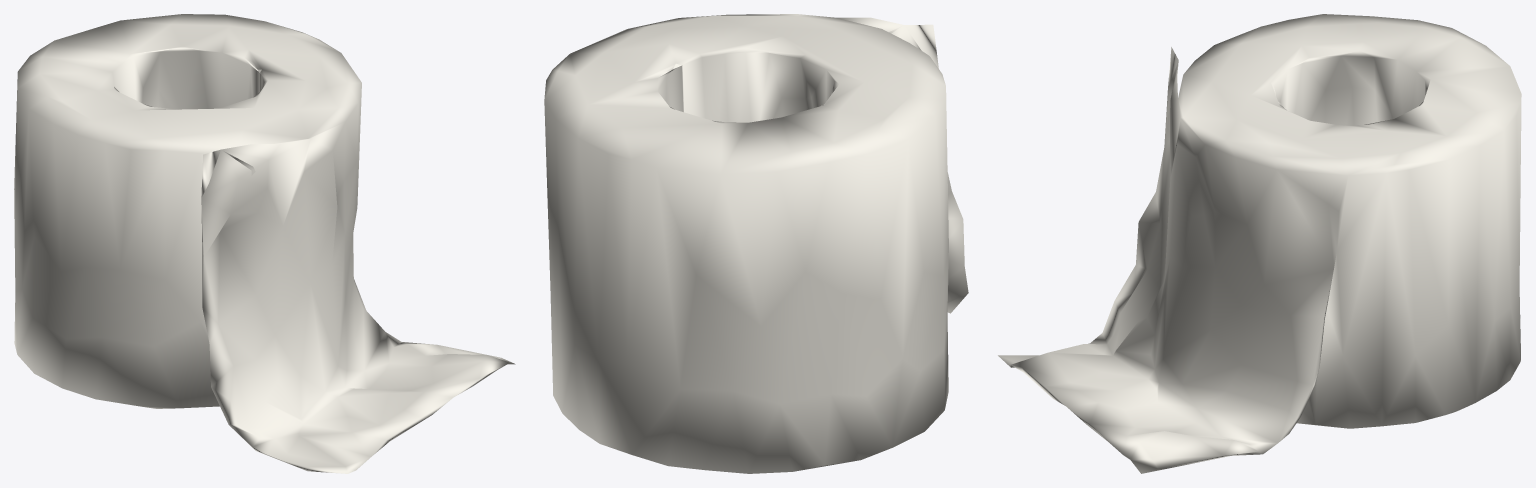
Rendered from SM_prop_toilet_paper.glb.
3 views of the same model, side by side, from view 1: azimuth 30°, elevation 25°; view 2: azimuth 150°, elevation 25°; view 3: azimuth 270°, elevation 25° (orthographic). The views are drawn at different scales.
Visible parts, largest first — view 1: SM_prop_toilet_paper; view 2: SM_prop_toilet_paper; view 3: SM_prop_toilet_paper.
Boxes of the visible parts, x1,y1,x2,y2 form: SM_prop_toilet_paper: (14, 14, 515, 473); SM_prop_toilet_paper: (544, 14, 968, 473); SM_prop_toilet_paper: (998, 14, 1521, 473).
Bounding box in the file's own units: 0.2807 × 0.2 × 0.3282.
1 material, 1 textured.
